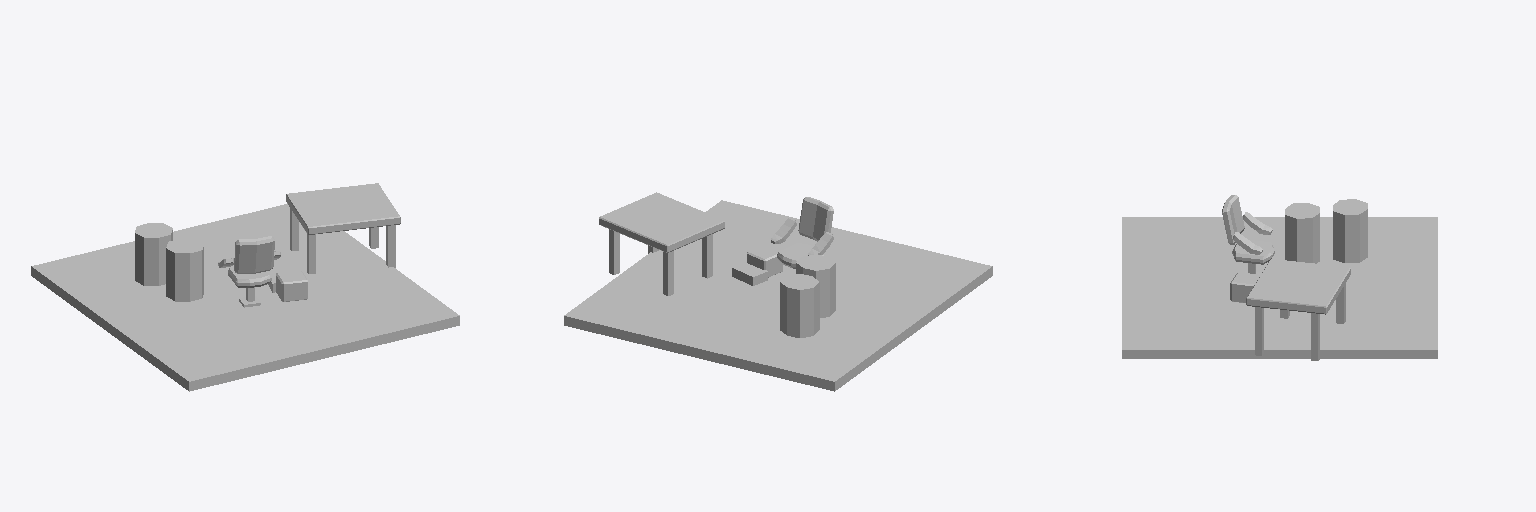
Rendered from tableprm.obj.
3 views of the same model, side by side, from view 1: azimuth 30°, elevation 25°; view 2: azimuth 150°, elevation 25°; view 3: azimuth 270°, elevation 25° (orthographic).
Parts seen in each view (by area): view 1: Mesh.002_Mesh.008_Mesh.007_Mesh.006_Group5679, Mesh.004_Mesh.001_Mesh.013_Mesh_Group5559, Mesh.011_Mesh.015_Mesh.002_Mesh.013_Group5709.001, Mesh.008_Mesh.007_Mesh.002_Mesh.013_Group5709, Mesh.009_Mesh.002_Mesh.012_Mesh.007_Group5694, Mesh.013_Mesh.003_Mesh.004_Mesh.012_Group5724, Mesh.007_Mesh.011_Mesh.001_Mesh.005_Group5634; view 2: Mesh.002_Mesh.008_Mesh.007_Mesh.006_Group5679, Mesh.004_Mesh.001_Mesh.013_Mesh_Group5559, Mesh.008_Mesh.007_Mesh.002_Mesh.013_Group5709, Mesh.011_Mesh.015_Mesh.002_Mesh.013_Group5709.001, Mesh.009_Mesh.002_Mesh.012_Mesh.007_Group5694, Mesh.013_Mesh.003_Mesh.004_Mesh.012_Group5724, Cube.001_Cube.003, Mesh.007_Mesh.011_Mesh.001_Mesh.005_Group5634; view 3: Mesh.002_Mesh.008_Mesh.007_Mesh.006_Group5679, Mesh.004_Mesh.001_Mesh.013_Mesh_Group5559, Mesh.008_Mesh.007_Mesh.002_Mesh.013_Group5709, Mesh.011_Mesh.015_Mesh.002_Mesh.013_Group5709.001, Mesh.009_Mesh.002_Mesh.012_Mesh.007_Group5694, Mesh.013_Mesh.003_Mesh.004_Mesh.012_Group5724, Mesh.007_Mesh.011_Mesh.001_Mesh.005_Group5634.
Boxes of the visible parts, box(x1,y1,x2,y2) form: Mesh.002_Mesh.008_Mesh.007_Mesh.006_Group5679: box(31, 204, 459, 391); Mesh.004_Mesh.001_Mesh.013_Mesh_Group5559: box(286, 183, 400, 234); Mesh.011_Mesh.015_Mesh.002_Mesh.013_Group5709.001: box(166, 239, 203, 301); Mesh.008_Mesh.007_Mesh.002_Mesh.013_Group5709: box(135, 223, 172, 285); Mesh.009_Mesh.002_Mesh.012_Mesh.007_Group5694: box(234, 236, 274, 273); Mesh.013_Mesh.003_Mesh.004_Mesh.012_Group5724: box(276, 270, 307, 301); Mesh.007_Mesh.011_Mesh.001_Mesh.005_Group5634: box(228, 267, 271, 287); Mesh.002_Mesh.008_Mesh.007_Mesh.006_Group5679: box(564, 200, 992, 391); Mesh.004_Mesh.001_Mesh.013_Mesh_Group5559: box(599, 192, 724, 252); Mesh.008_Mesh.007_Mesh.002_Mesh.013_Group5709: box(780, 274, 819, 337); Mesh.011_Mesh.015_Mesh.002_Mesh.013_Group5709.001: box(796, 254, 835, 317); Mesh.009_Mesh.002_Mesh.012_Mesh.007_Group5694: box(798, 197, 833, 241); Mesh.013_Mesh.003_Mesh.004_Mesh.012_Group5724: box(747, 245, 782, 277); Cube.001_Cube.003: box(732, 262, 767, 285); Mesh.007_Mesh.011_Mesh.001_Mesh.005_Group5634: box(777, 243, 823, 268); Mesh.002_Mesh.008_Mesh.007_Mesh.006_Group5679: box(1122, 217, 1437, 358); Mesh.004_Mesh.001_Mesh.013_Mesh_Group5559: box(1246, 259, 1350, 314); Mesh.008_Mesh.007_Mesh.002_Mesh.013_Group5709: box(1333, 199, 1367, 262); Mesh.011_Mesh.015_Mesh.002_Mesh.013_Group5709.001: box(1285, 203, 1319, 263); Mesh.009_Mesh.002_Mesh.012_Mesh.007_Group5694: box(1222, 195, 1244, 244); Mesh.013_Mesh.003_Mesh.004_Mesh.012_Group5724: box(1230, 272, 1260, 302); Mesh.007_Mesh.011_Mesh.001_Mesh.005_Group5634: box(1232, 240, 1274, 264).
Bounding box in the file's own units: 16.66 × 4.62 × 15.63.